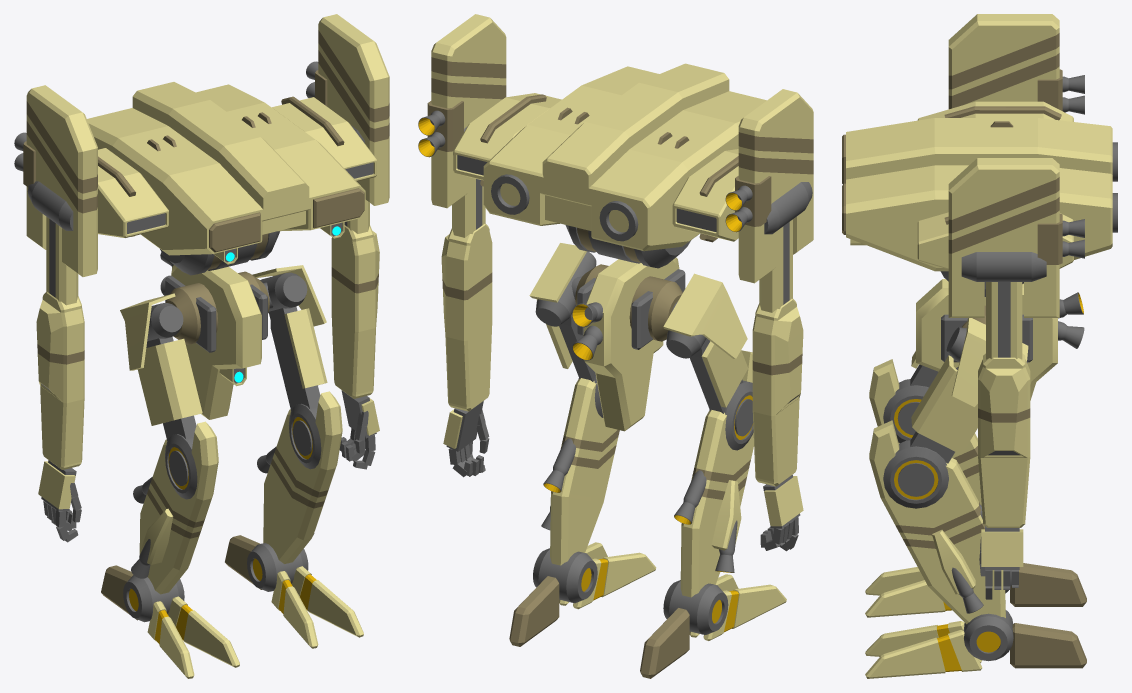
The model's file is DragonFly.fbx.
3 renders of one model, left to right at view 1: azimuth 30°, elevation 25°; view 2: azimuth 150°, elevation 25°; view 3: azimuth 270°, elevation 25°, orthographic. The views are drawn at different scales.
Visible parts, largest first — view 1: pCube13, pCube44 (×2), pCube46 (×2), pCube47, pCube52, pCube58, pCube19, pCube63, pCube18, pCube65, pCube49, pCube51 (+22 smaller); view 2: pCube13, pCube44 (×2), pCube46 (×2), pCube52, pCube47, pCube58, pCube19, pCube18, pPlane2, pCube45 (×2), pCylinder28, pCylinder24 (+26 smaller); view 3: pCube13, pCube44 (×2), pCube47, pCube46, pCube52, pCube57, pCylinder23, pCube49, pCube50, pCube45, pCube66, pCylinder22 (+20 smaller).
Part boxes in pixels (x1,y1,x2,y2): pCube13: [87, 82, 365, 255]; pCube44 (×2): [26, 14, 389, 276]; pCube46 (×2): [36, 225, 379, 469]; pCube47: [263, 391, 342, 563]; pCube52: [171, 265, 261, 419]; pCube58: [139, 421, 218, 594]; pCube19: [98, 148, 168, 237]; pCube63: [137, 338, 202, 425]; pCube18: [272, 96, 376, 181]; pCube65: [168, 596, 239, 667]; pCube49: [291, 566, 363, 637]; pCube51: [268, 306, 320, 410]; pCube13: [483, 63, 766, 251]; pCube44 (×2): [431, 14, 813, 283]; pCube46 (×2): [441, 224, 803, 486]; pCube52: [583, 257, 679, 431]; pCube47: [550, 378, 619, 565]; pCube58: [680, 350, 753, 597]; pCube19: [672, 149, 738, 242]; pCube18: [453, 93, 561, 186]; pPlane2: [663, 273, 747, 358]; pCube45 (×2): [452, 177, 792, 312]; pCylinder28: [663, 580, 728, 634]; pCylinder24: [533, 548, 597, 603]; pCube13: [842, 118, 1112, 271]; pCube44 (×2): [948, 14, 1059, 317]; pCube47: [869, 420, 1005, 624]; pCube46: [978, 353, 1030, 527]; pCube52: [916, 279, 1057, 400]; pCube57: [911, 355, 977, 454]; pCylinder23: [883, 440, 948, 508]; pCube49: [865, 630, 982, 678]; pCube50: [1010, 623, 1086, 668]; pCube45: [986, 282, 1022, 359]; pCube66: [1010, 563, 1086, 606]; pCylinder22: [961, 252, 1046, 281].
Bounding box in the file's own units: 15.46 × 24.22 × 11.09.
